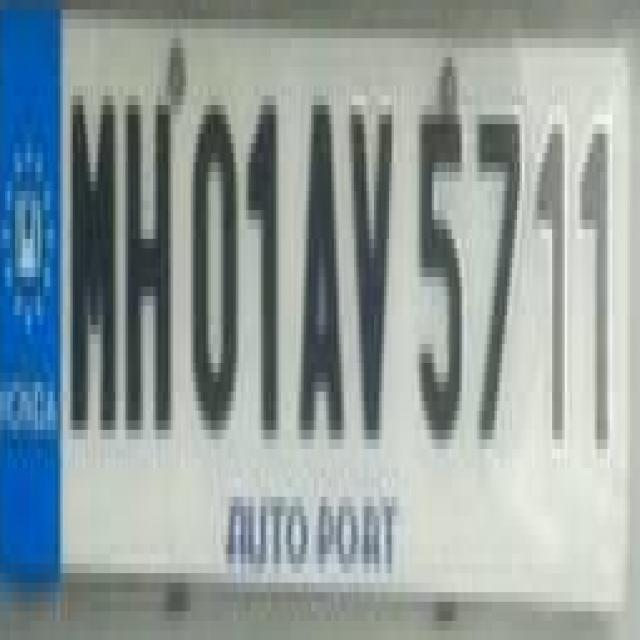plate: (25, 0, 640, 583)
